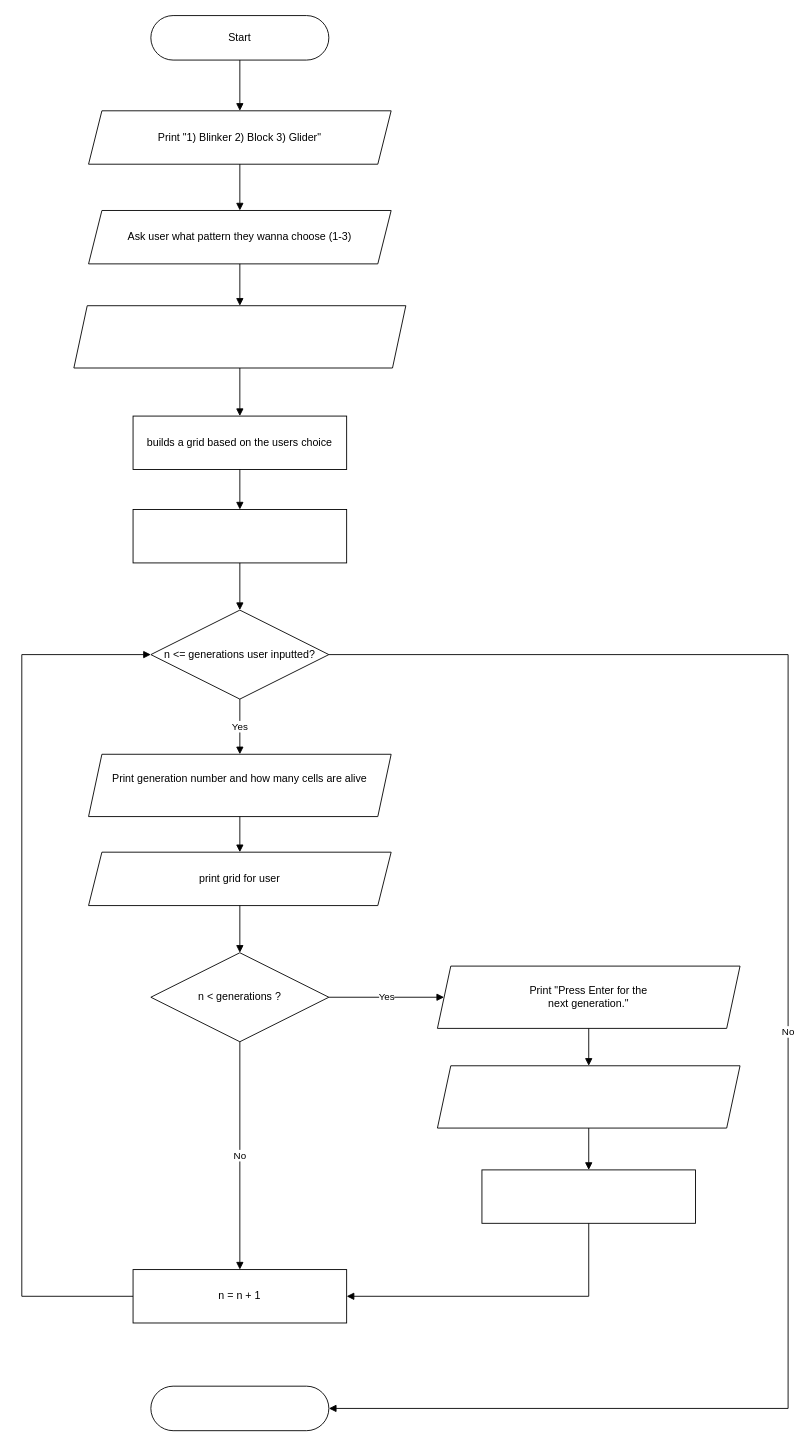
This 811x1446 diagram has some shape labels left out. Here are the shapes that lost their labels. From the top down, the centre of each, then its label:
At point (239, 336): "Ask the user how many generations they wanna advance 0 -100)".
At point (239, 536): "n = 0".
At point (588, 1096): "Wait for Enter (read a line into a new String)".
At point (588, 1196): "grid = next_generation(&grid)".
At point (239, 1408): "End".
